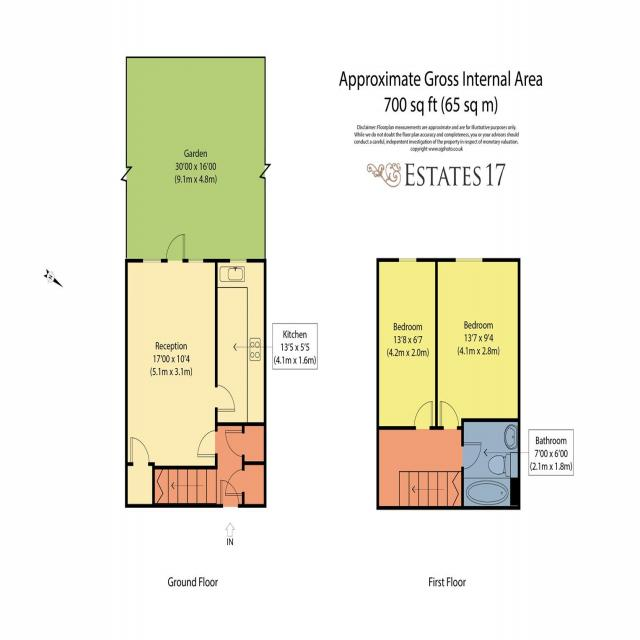DOOR: (439, 400, 460, 430), (165, 233, 186, 263), (461, 441, 482, 470), (219, 479, 240, 508), (197, 429, 218, 458), (215, 384, 236, 412), (413, 401, 433, 430)
ROOM: (125, 233, 236, 470), (435, 258, 521, 430), (376, 258, 438, 430), (215, 258, 267, 427)
WINDOW: (455, 258, 483, 262), (142, 258, 161, 263), (229, 258, 247, 263), (188, 258, 204, 263), (398, 258, 417, 262)
